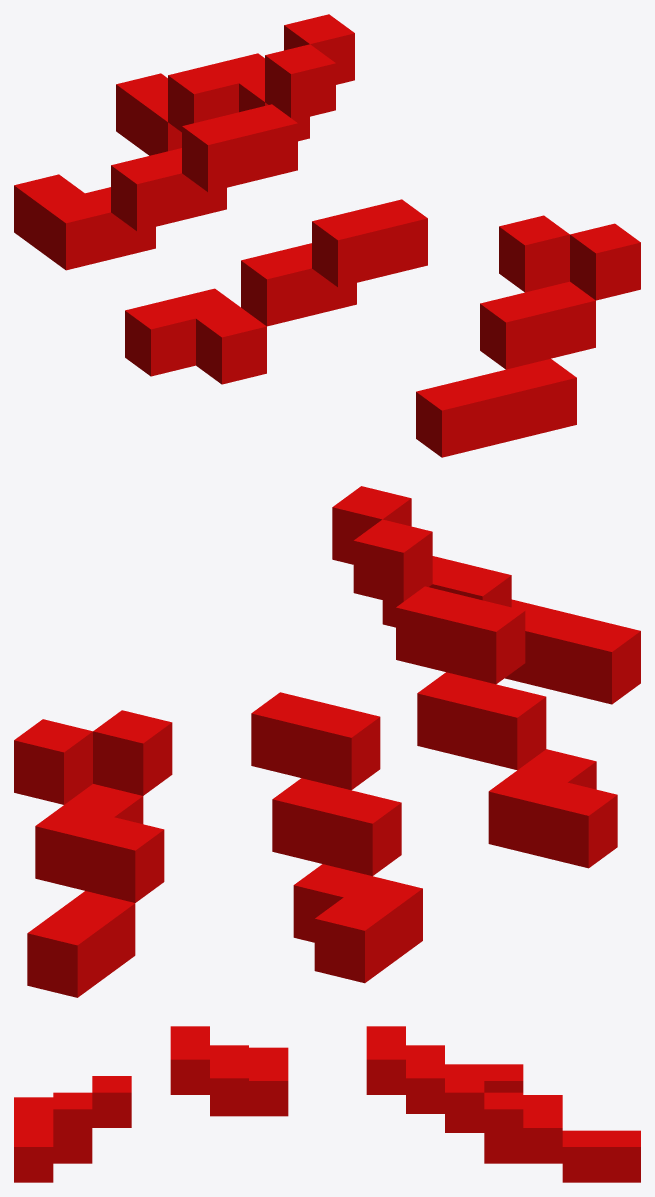
Rendered from spiderLegsLeft.obj.
The picture shows the model from 3 angles, top to bottom: view 1: azimuth 30°, elevation 25°; view 2: azimuth 150°, elevation 25°; view 3: azimuth 270°, elevation 25°; orthographic projection. The views are drawn at different scales.
Bounding box in the file's own units: 0.8 × 0.3 × 1.6.
1 material, 1 textured.
